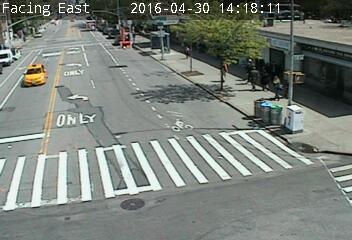neg: (245, 134, 271, 168), (115, 186, 138, 217), (298, 13, 319, 41), (201, 171, 221, 199), (55, 144, 75, 171), (127, 68, 146, 93), (155, 132, 174, 157), (288, 63, 306, 88), (285, 98, 303, 122), (174, 110, 190, 130), (54, 96, 69, 117), (112, 31, 127, 50), (66, 52, 80, 71), (14, 61, 28, 80), (25, 10, 39, 28)
pos: (269, 72, 287, 96), (246, 66, 264, 90), (214, 57, 232, 80), (254, 51, 270, 73), (180, 44, 192, 61), (245, 57, 255, 71)
